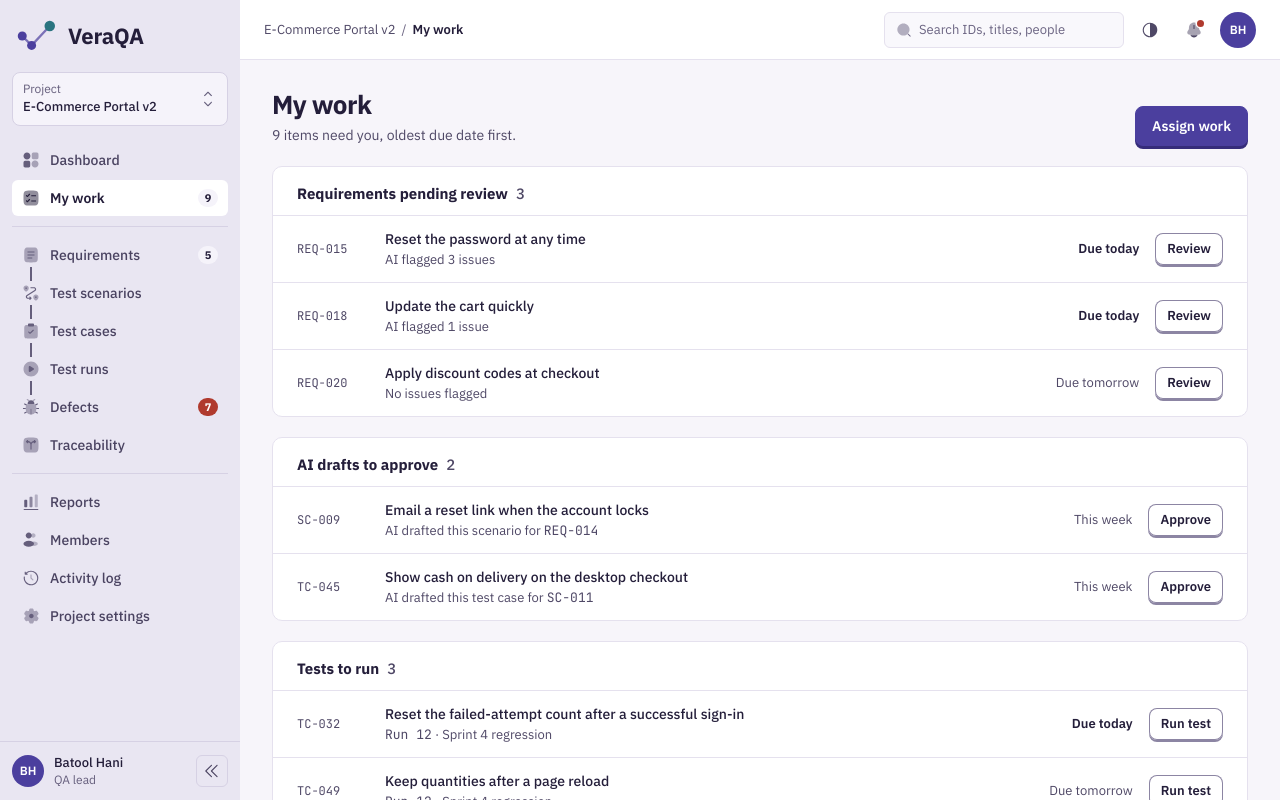
Test: Assign work › assigns the picked items with a due date, and says so
Click the button "Assign work". click: (1192, 126)
box: [1135, 106, 1248, 146]
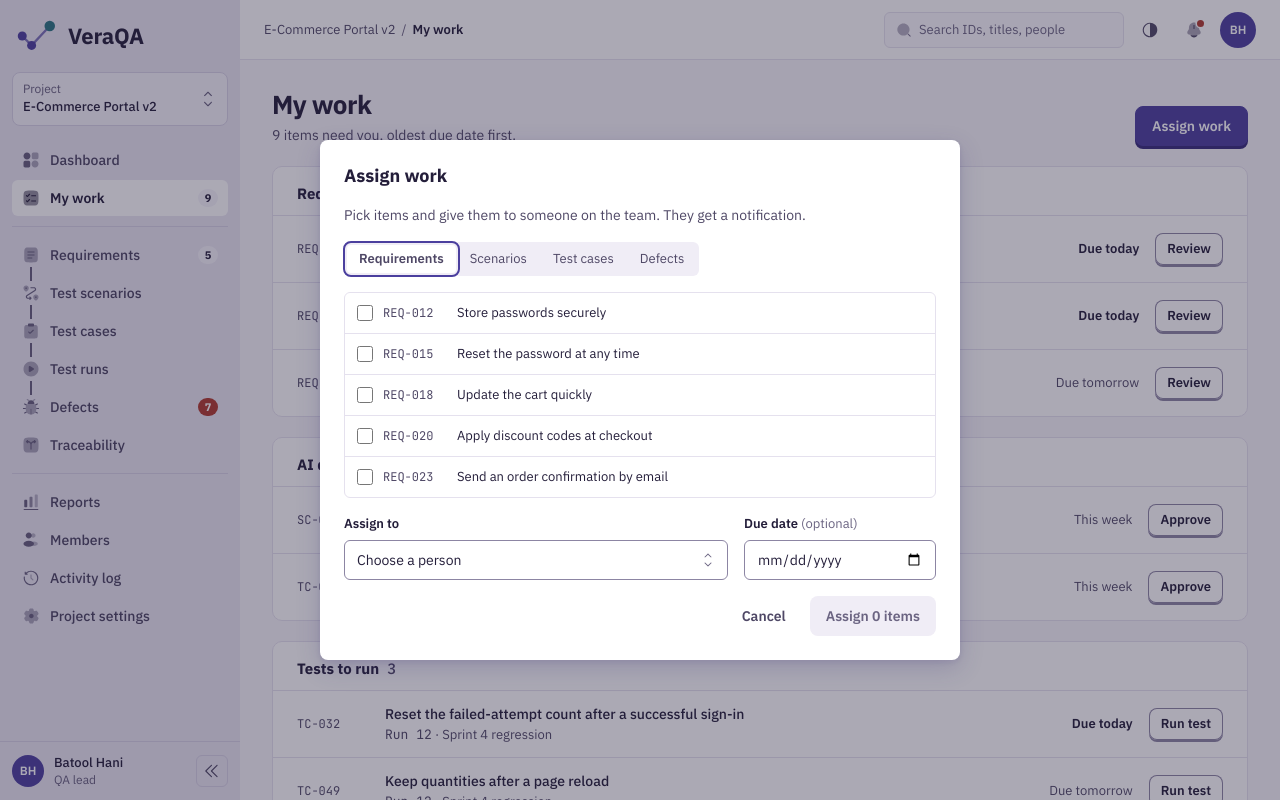
Click the tab "Test cases". click: (583, 259)
box: [541, 245, 626, 273]
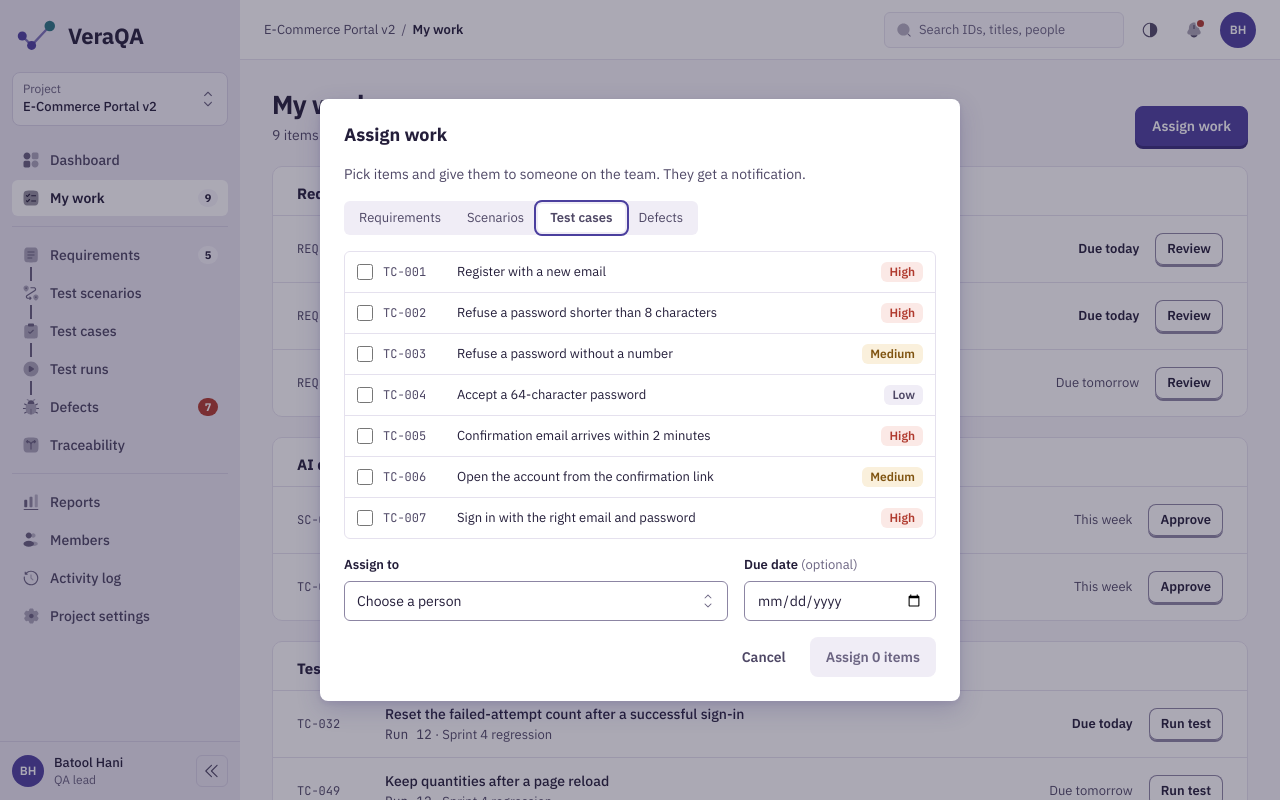
Click the checkbox labelled "TC-001 Register with a new email High". click: (365, 272)
box: [357, 264, 373, 280]
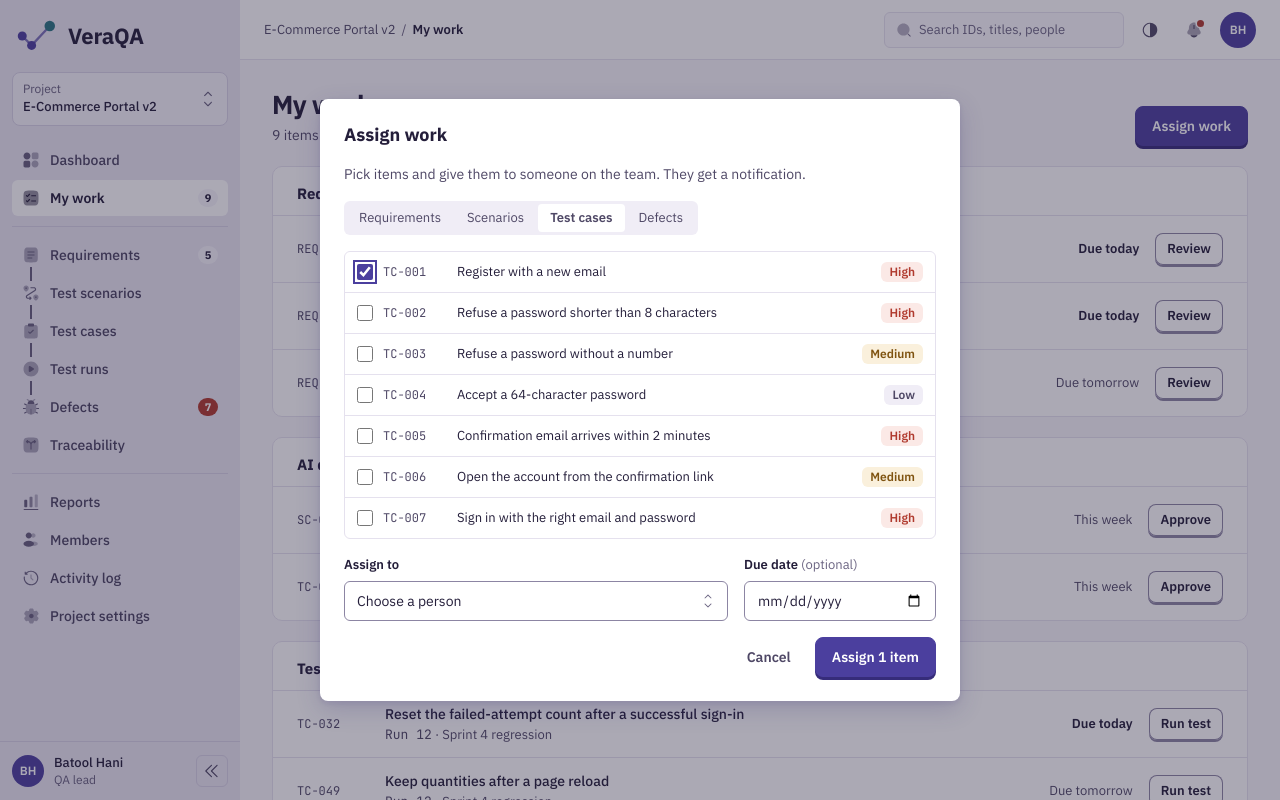
Select "Batool Mahmoud" in the dropdown labelled "Assign to". click: (536, 601)
box: [344, 581, 728, 621]
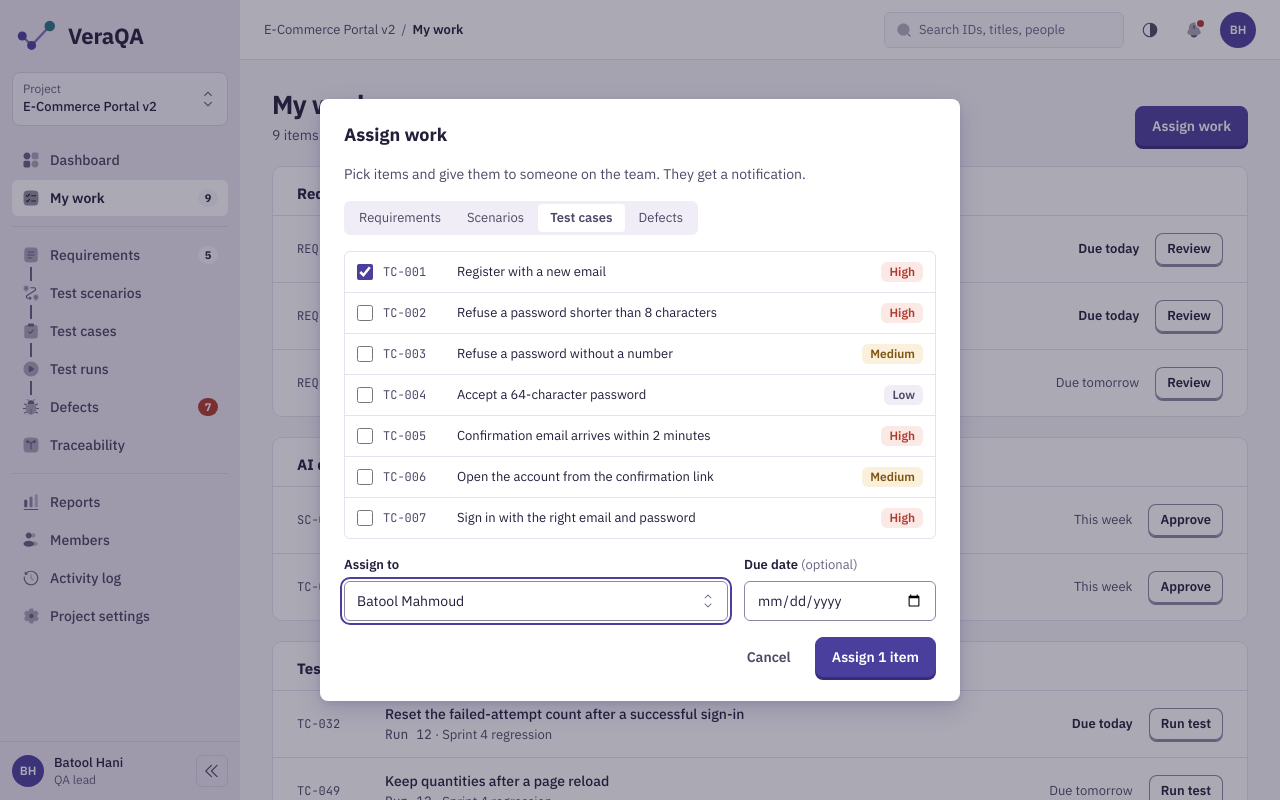
Type "2026-12-01" into the date field labelled "Due date (optional)". click: (840, 601)
box: [744, 581, 936, 621]
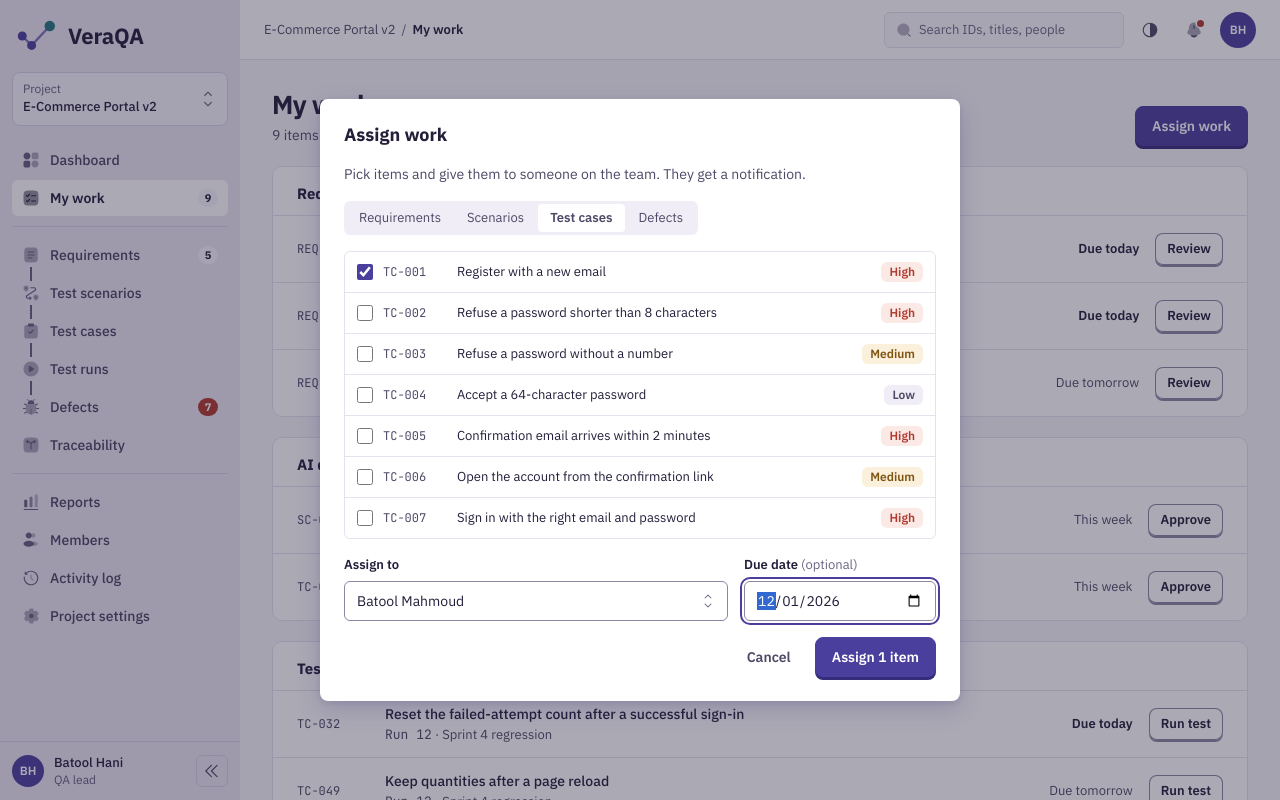
Click the button "Assign 1 item". click: (875, 657)
box: [815, 637, 936, 677]
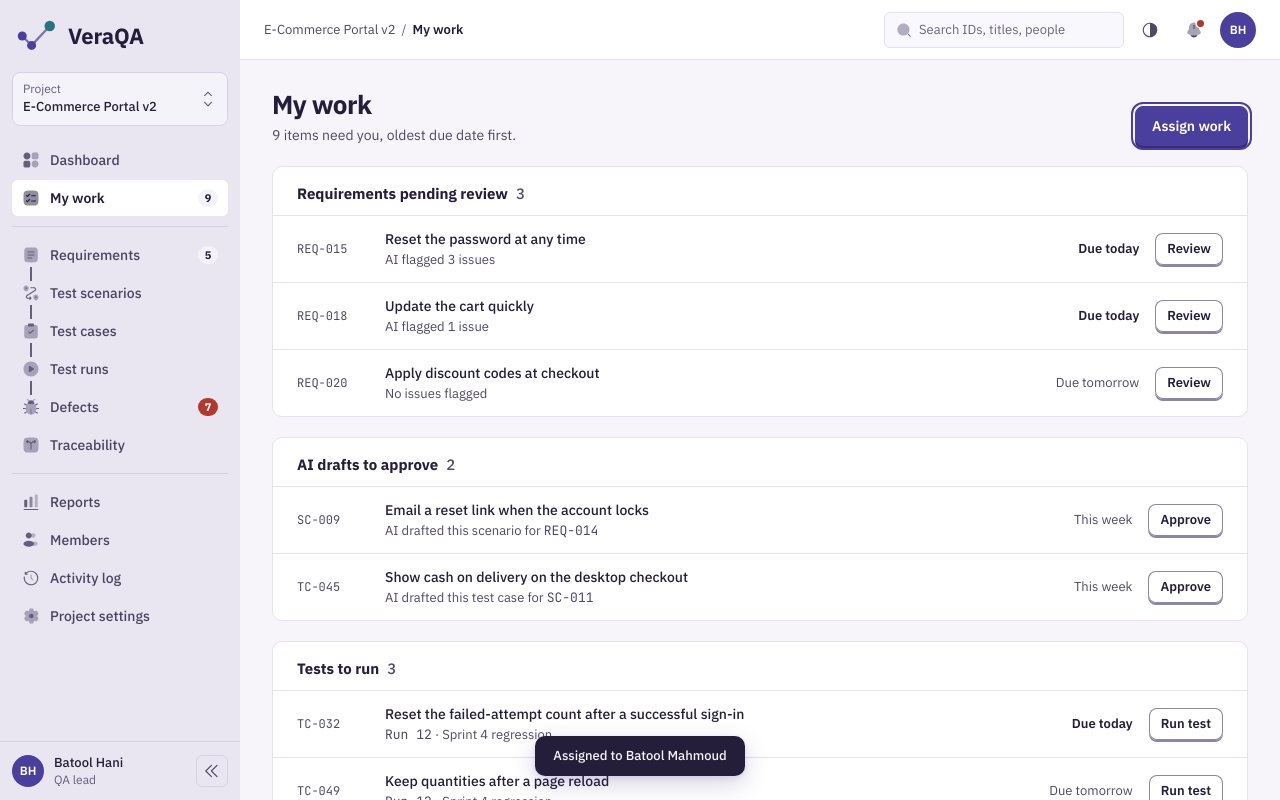
Expected: the text "Assigned to Batool Mahmoud" is shown, [553, 746, 727, 766]
